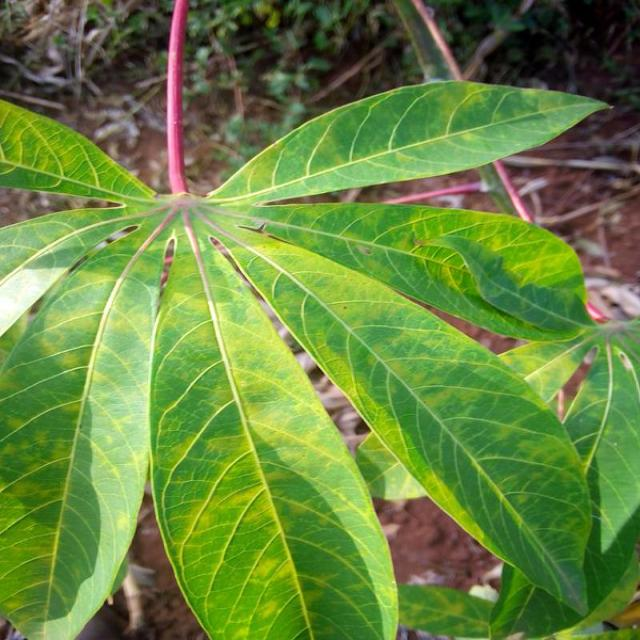cassava leaf: (2, 0, 631, 639), (148, 219, 401, 638), (2, 204, 170, 638)
